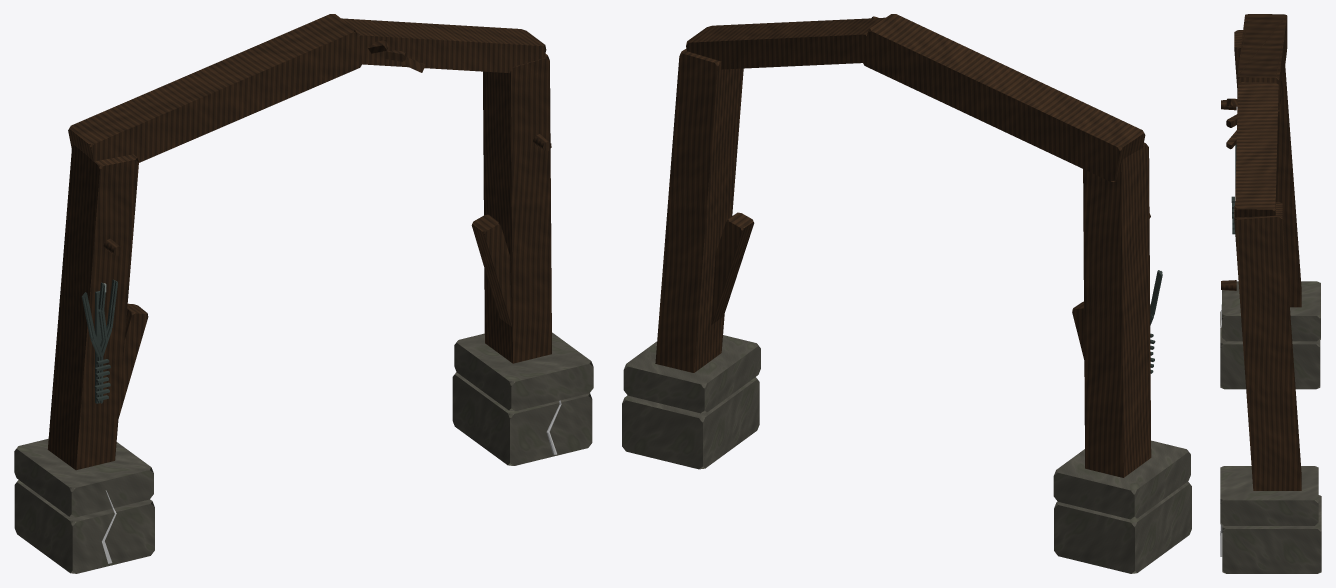
Rendered from cataclysm_rootvault_frame-lod0.gltf.
3 views of the same model, side by side, from view 1: azimuth 30°, elevation 25°; view 2: azimuth 150°, elevation 25°; view 3: azimuth 270°, elevation 25° (orthographic). The views are drawn at different scales.
Visible parts, largest first — view 1: cataclysm_rootvault_frame LOD0 cataclysm_rootvault_frame; view 2: cataclysm_rootvault_frame LOD0 cataclysm_rootvault_frame; view 3: cataclysm_rootvault_frame LOD0 cataclysm_rootvault_frame.
Part boxes in pixels (<box>): cataclysm_rootvault_frame LOD0 cataclysm_rootvault_frame: <box>14,14,593,573</box>; cataclysm_rootvault_frame LOD0 cataclysm_rootvault_frame: <box>622,14,1191,573</box>; cataclysm_rootvault_frame LOD0 cataclysm_rootvault_frame: <box>1220,14,1321,573</box>.
Size of the model in its own units: 3.32 by 2.84 by 0.6514.
